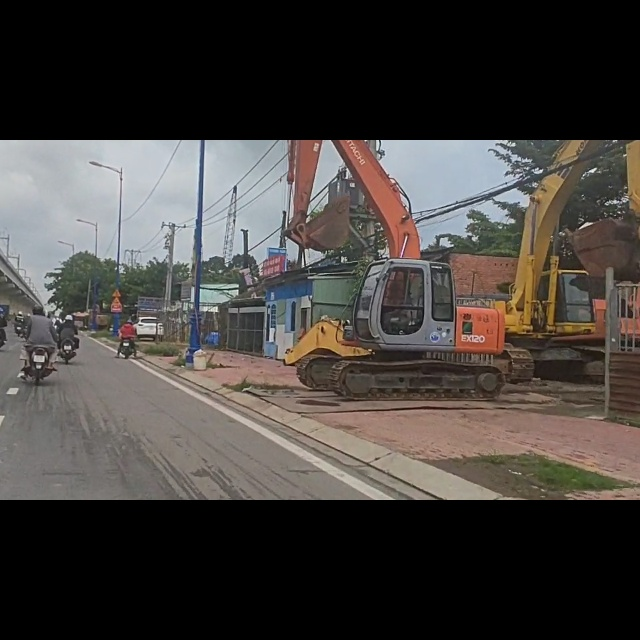bien_nguy_hiem: (111, 279, 123, 293), (112, 263, 122, 279)
